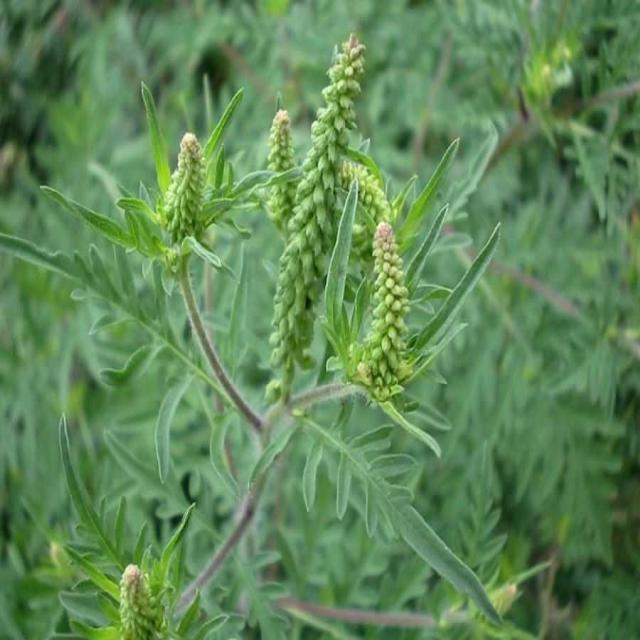ambrosia: (122, 41, 484, 487)
